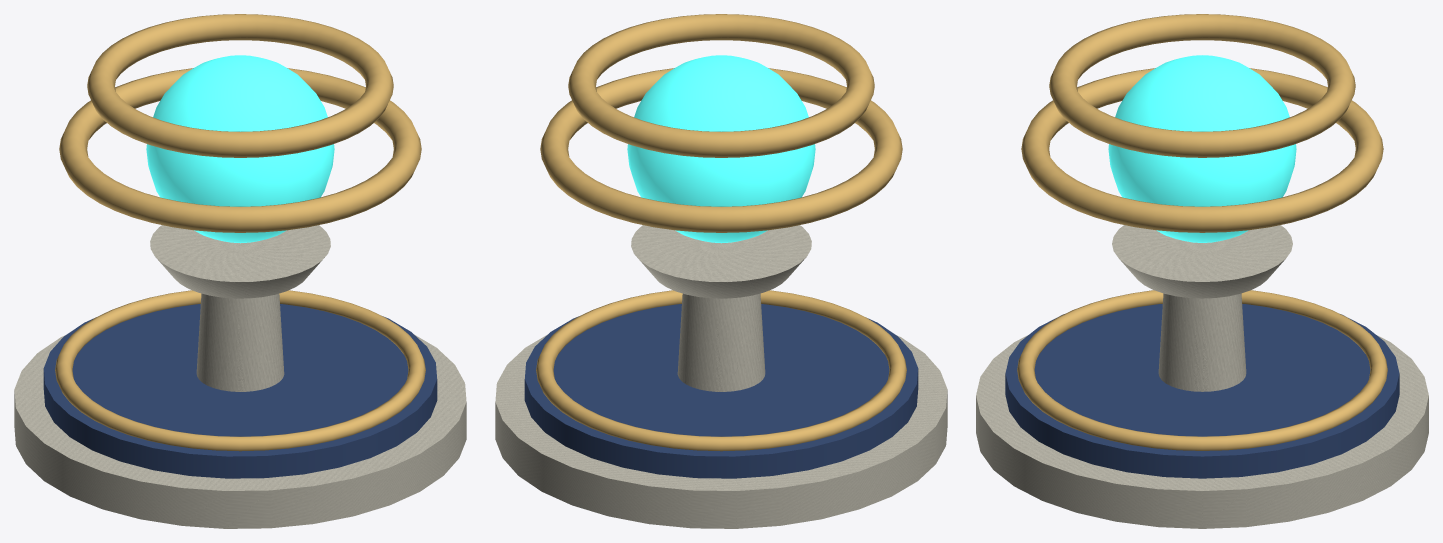
Rendered from arcane-academy-and-spell-trials-ward-generator-489e1c07__28302.glb.
The picture shows the model from 3 angles, left to right: view 1: azimuth 30°, elevation 25°; view 2: azimuth 150°, elevation 25°; view 3: azimuth 270°, elevation 25°; orthographic projection.
Visible parts, largest first — view 1: ward-generator; view 2: ward-generator; view 3: ward-generator.
Boxes of the visible parts, x1,y1,x2,y2 form: ward-generator: [14, 14, 466, 528]; ward-generator: [495, 14, 947, 528]; ward-generator: [976, 14, 1428, 528].
Size of the model in its own units: 1.3 by 1.17 by 1.3.
4 materials, 1 textured.
